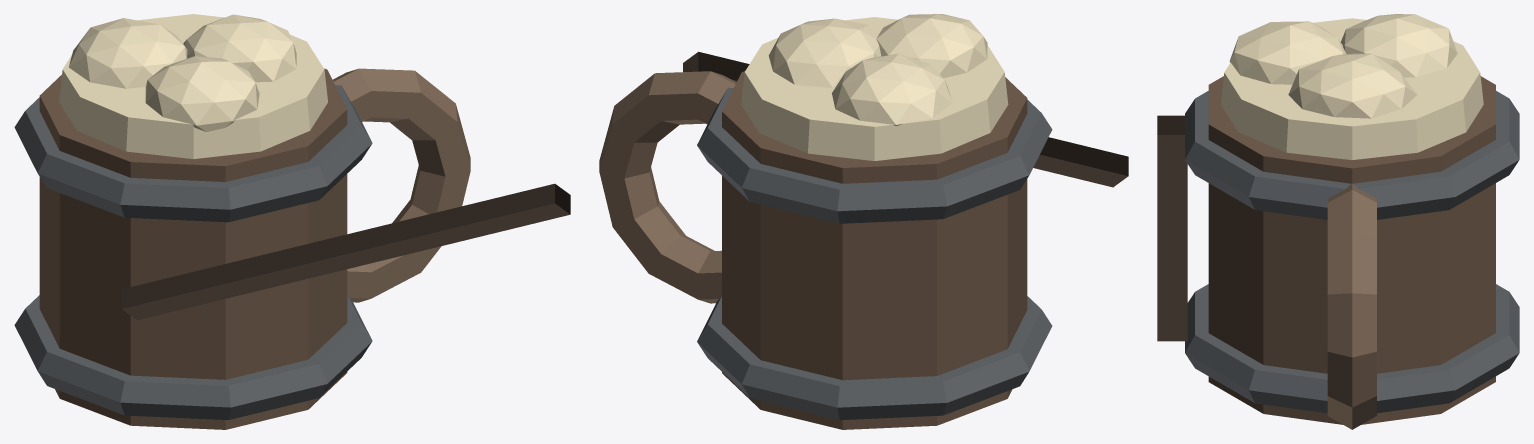
File: kit_mug.glb
3 renders of one model, left to right at view 1: azimuth 30°, elevation 25°; view 2: azimuth 150°, elevation 25°; view 3: azimuth 270°, elevation 25°, orthographic. The views are drawn at different scales.
Parts seen in each view (by area): view 1: Tankard body, Woodland worn prop binding.002, Tankard band.001, Tankard band, Foam surface, Tankard handle, Foam bubble.002, Foam bubble, Foam bubble.001; view 2: Tankard body, Tankard handle, Tankard band.001, Tankard band, Foam surface, Foam bubble, Foam bubble.001, Foam bubble.002, Woodland worn prop binding.002; view 3: Tankard body, Foam surface, Tankard band.001, Tankard band, Tankard handle, Woodland worn prop binding.002, Foam bubble.001, Foam bubble, Foam bubble.002.
Boxes of the visible parts, box(x1,y1,x2,y2) form: Tankard body: box(39, 68, 347, 429); Woodland worn prop binding.002: box(122, 183, 570, 320); Tankard band.001: box(14, 80, 372, 222); Tankard band: box(14, 294, 372, 419); Foam surface: box(59, 14, 327, 159); Tankard handle: box(333, 68, 470, 302); Foam bubble.002: box(145, 56, 259, 131); Foam bubble: box(69, 18, 187, 88); Foam bubble.001: box(183, 14, 296, 82); Tankard body: box(722, 71, 1027, 429); Tankard handle: box(599, 71, 735, 303); Tankard band.001: box(697, 82, 1052, 223); Tankard band: box(697, 295, 1052, 420); Foam surface: box(741, 17, 1008, 160); Foam bubble: box(832, 53, 952, 125); Foam bubble.001: box(768, 18, 880, 87); Foam bubble.002: box(876, 14, 987, 78); Woodland worn prop binding.002: box(683, 51, 1128, 187); Tankard body: box(1208, 76, 1495, 424); Foam surface: box(1220, 18, 1483, 159); Tankard band.001: box(1185, 91, 1519, 219); Tankard band: box(1185, 284, 1519, 413); Tankard handle: box(1327, 183, 1376, 429); Woodland worn prop binding.002: box(1157, 115, 1187, 341); Foam bubble.001: box(1288, 53, 1416, 118); Foam bubble: box(1340, 14, 1457, 77); Foam bubble.002: box(1229, 21, 1346, 84).
Size of the model in its own units: 0.275 by 0.2021 by 0.2038.
